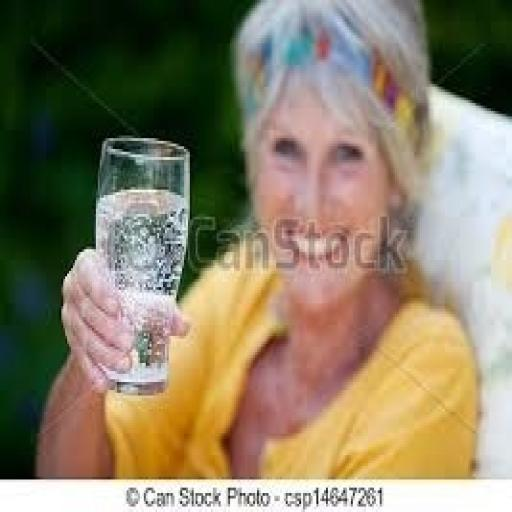drinking: (92, 132, 190, 396)
